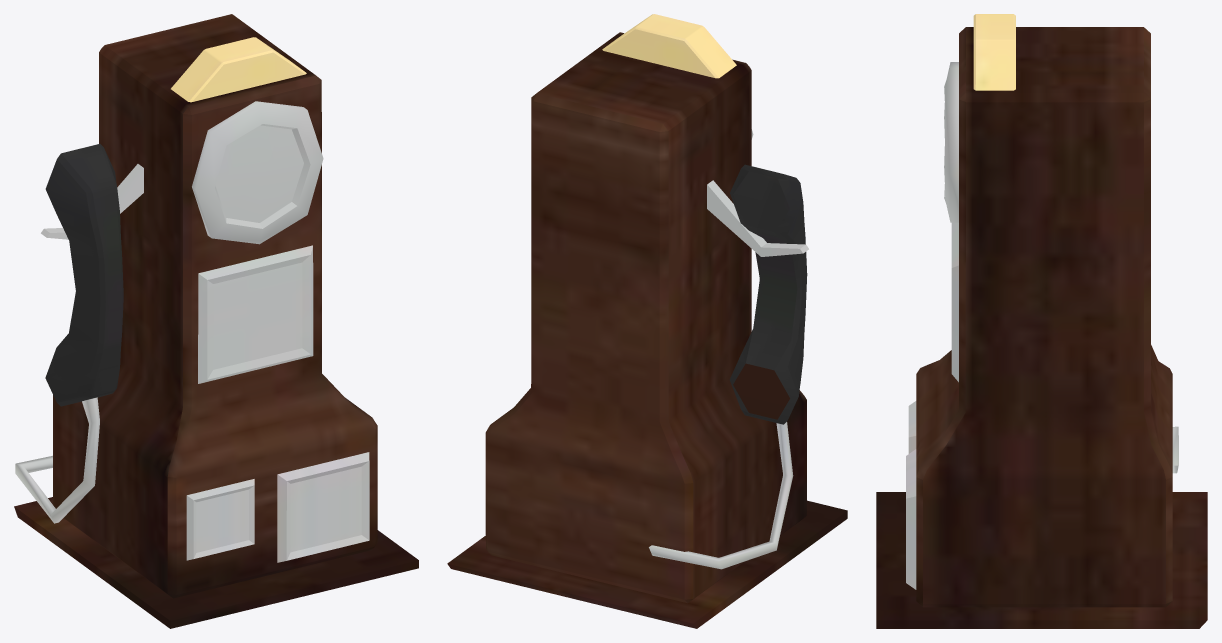
File: tower-station-telephone-art.glb
3 views of the same model, side by side, from view 1: azimuth 30°, elevation 25°; view 2: azimuth 150°, elevation 25°; view 3: azimuth 270°, elevation 25° (orthographic). The views are drawn at different scales.
Parts seen in each view (by area): view 1: Tower_Station_Telephone_Art; view 2: Tower_Station_Telephone_Art; view 3: Tower_Station_Telephone_Art.
Boxes of the visible parts, x1,y1,x2,y2 form: Tower_Station_Telephone_Art: (14, 14, 418, 628); Tower_Station_Telephone_Art: (447, 14, 847, 628); Tower_Station_Telephone_Art: (876, 14, 1207, 628).
Bounding box in the file's own units: 0.6853 × 1.14 × 0.6375.
Materials: 1 (1 with a texture image).
